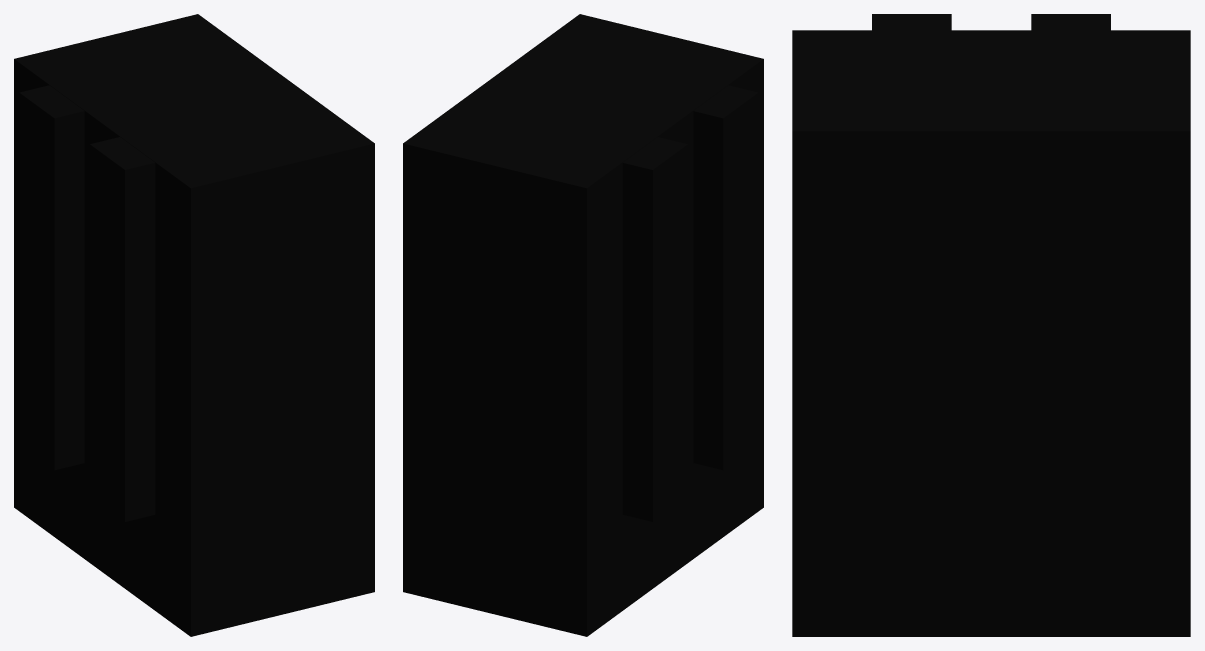
The model's file is gas_tank.obj.
The picture shows the model from 3 angles, left to right: view 1: azimuth 30°, elevation 25°; view 2: azimuth 150°, elevation 25°; view 3: azimuth 270°, elevation 25°; orthographic projection. The views are drawn at different scales.
Visible parts, largest first — view 1: chestplate, bb_main; view 2: chestplate, bb_main; view 3: chestplate, bb_main.
Part boxes in pixels (x1,y1,x2,y2): chestplate: [14, 14, 374, 636]; bb_main: [19, 85, 155, 521]; chestplate: [403, 14, 763, 636]; bb_main: [622, 85, 758, 521]; chestplate: [792, 30, 1190, 636]; bb_main: [872, 14, 1110, 30].
Bounding box in the file's own units: 0.4381 × 0.8763 × 0.6263.
